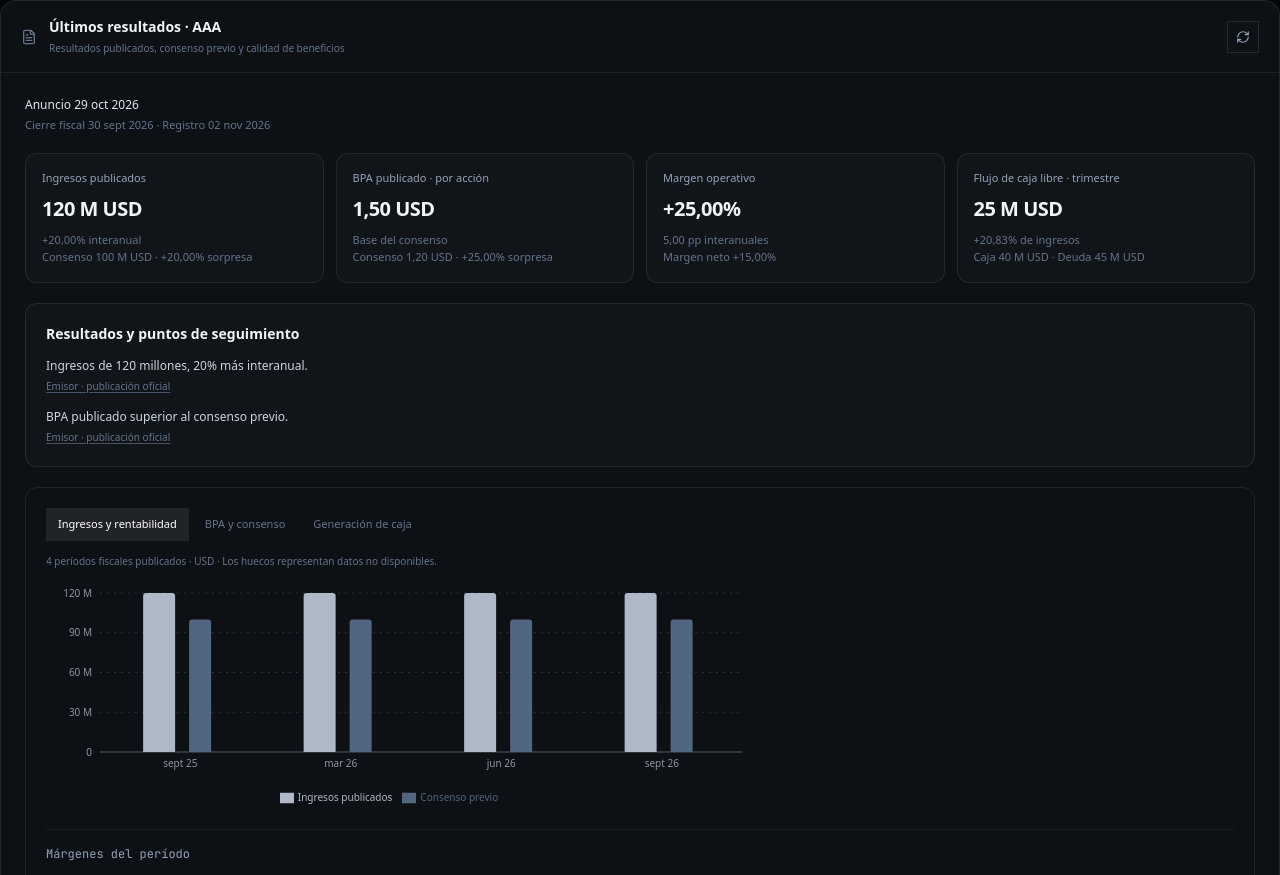
it: retains the last verified data on refresh failure and reports the failure clearly
expect the heading "Resultados y puntos de seguimiento" is shown: met, box x1=46 y1=324 x2=299 y2=343
Click the button named "Actualizar últimos resultados". click: (1243, 36)
box: x1=1227 y1=20 x2=1259 y2=52
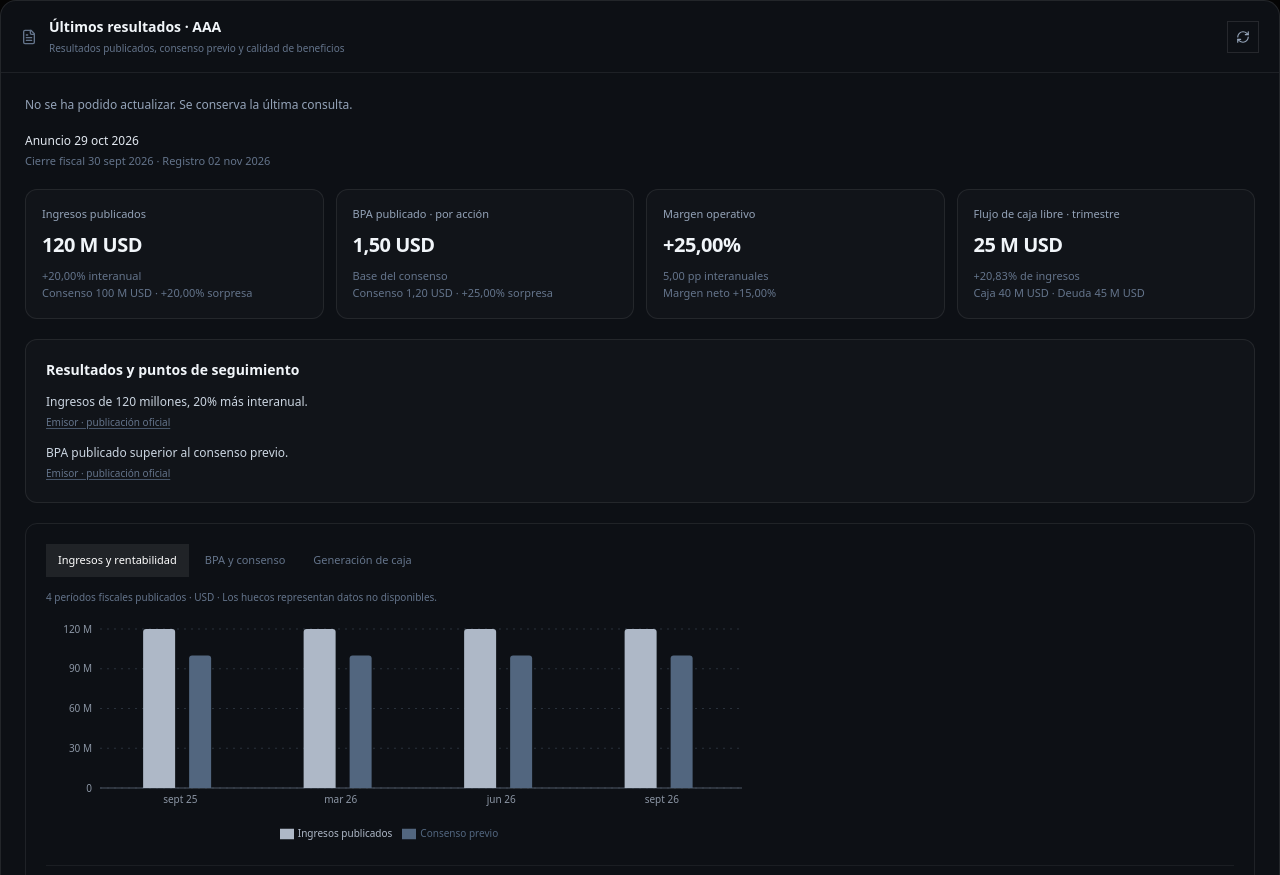
expect the text "Ingresos publicados" next to "BPA publicado · por acción" is shown: met, box x1=42 y1=206 x2=146 y2=221
expect the text "No se ha podido actualizar. Se conserva la última consulta." is shown: met, box x1=25 y1=96 x2=352 y2=113
